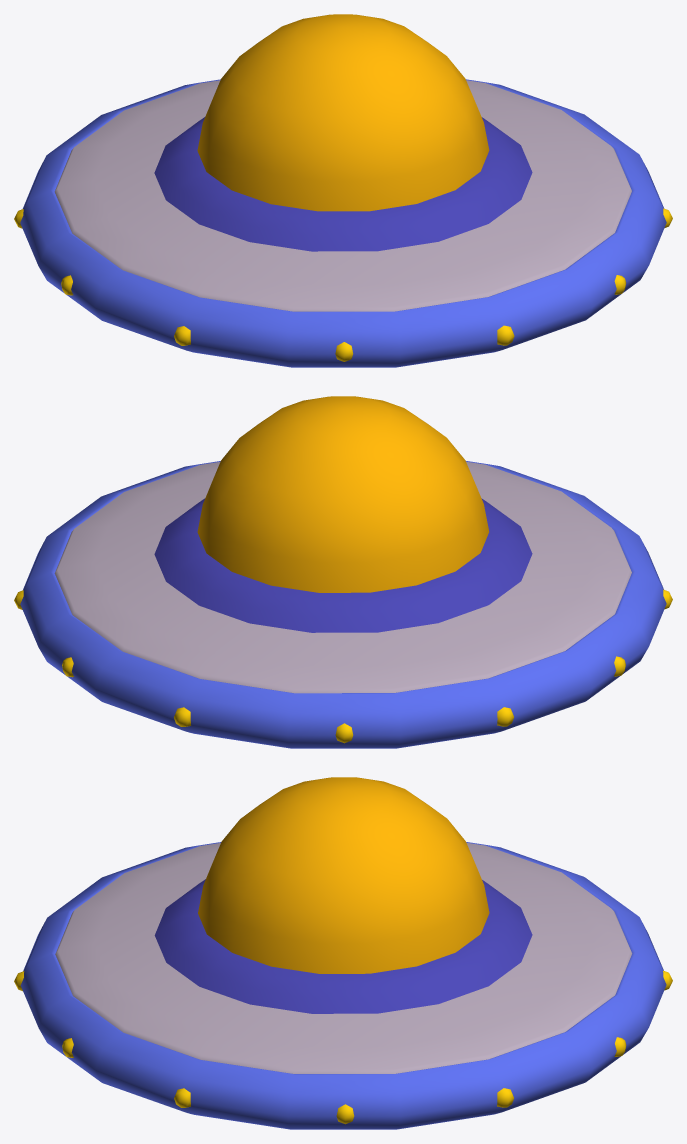
Rendered from Hat_12_02.fbx.
3 views of the same model, one above another, from view 1: azimuth 30°, elevation 25°; view 2: azimuth 150°, elevation 25°; view 3: azimuth 270°, elevation 25° (orthographic).
Visible parts, largest first — view 1: Hat_12_02; view 2: Hat_12_02; view 3: Hat_12_02.
Boxes of the visible parts, bbox=[...] form: Hat_12_02: bbox=[14, 14, 672, 367]; Hat_12_02: bbox=[14, 396, 672, 748]; Hat_12_02: bbox=[14, 777, 672, 1129].
Bounding box in the file's own units: 79.52 × 34.07 × 80.72.
